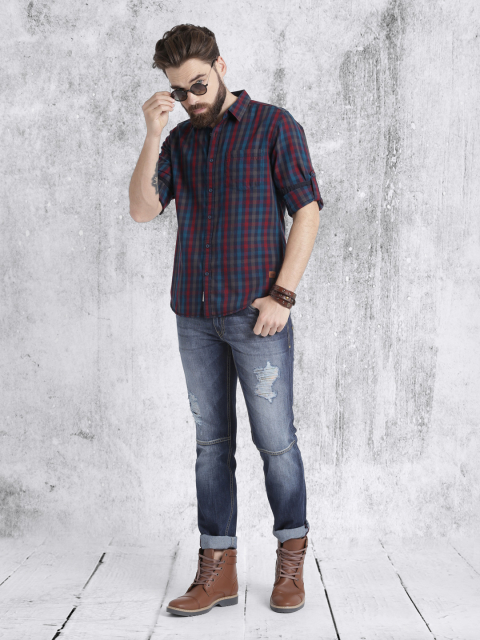jeans: (169, 315, 319, 545)
shirt: (150, 100, 319, 315)
